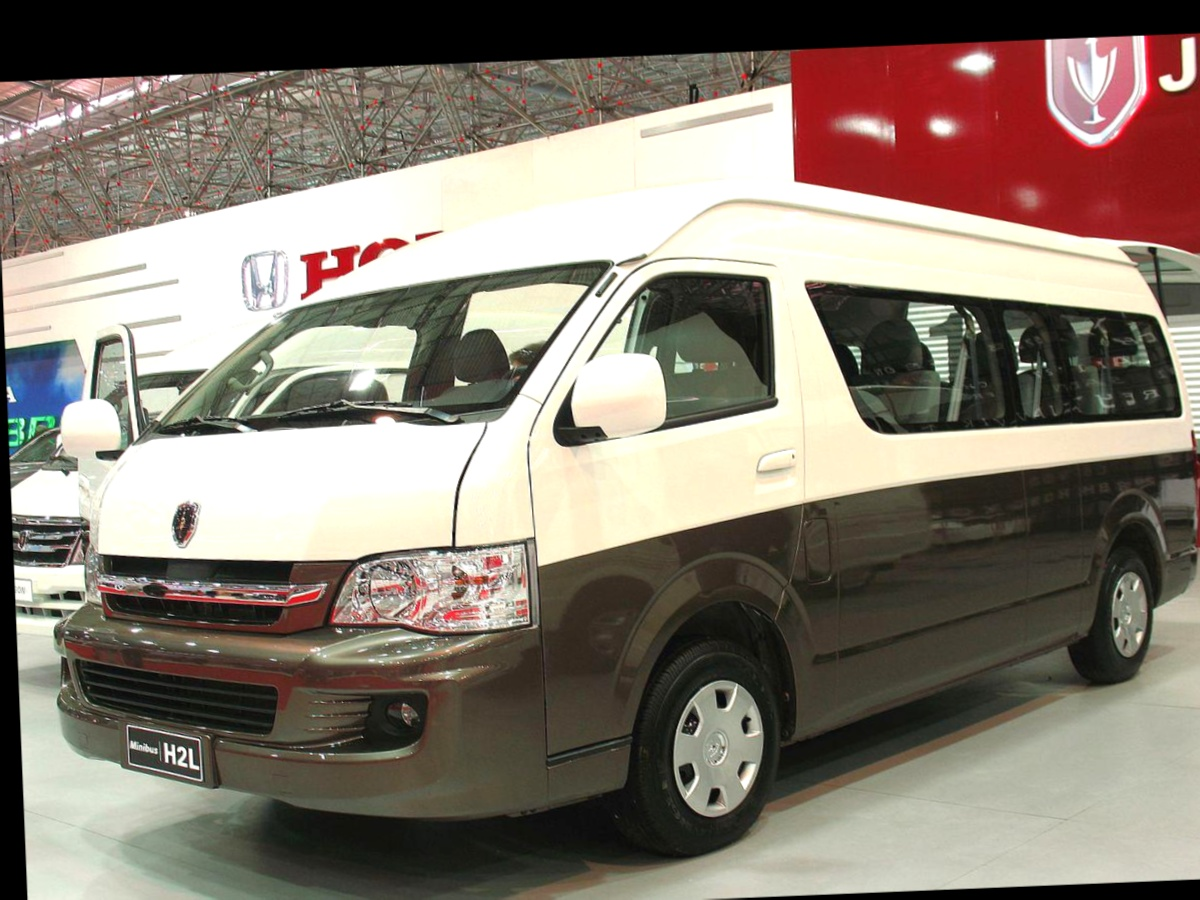van: (46, 168, 1200, 863)
